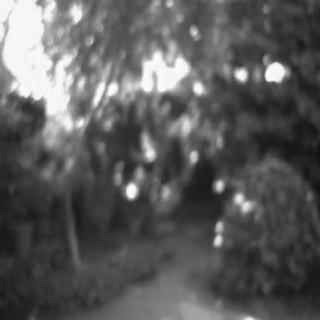other: (5, 4, 299, 100)
